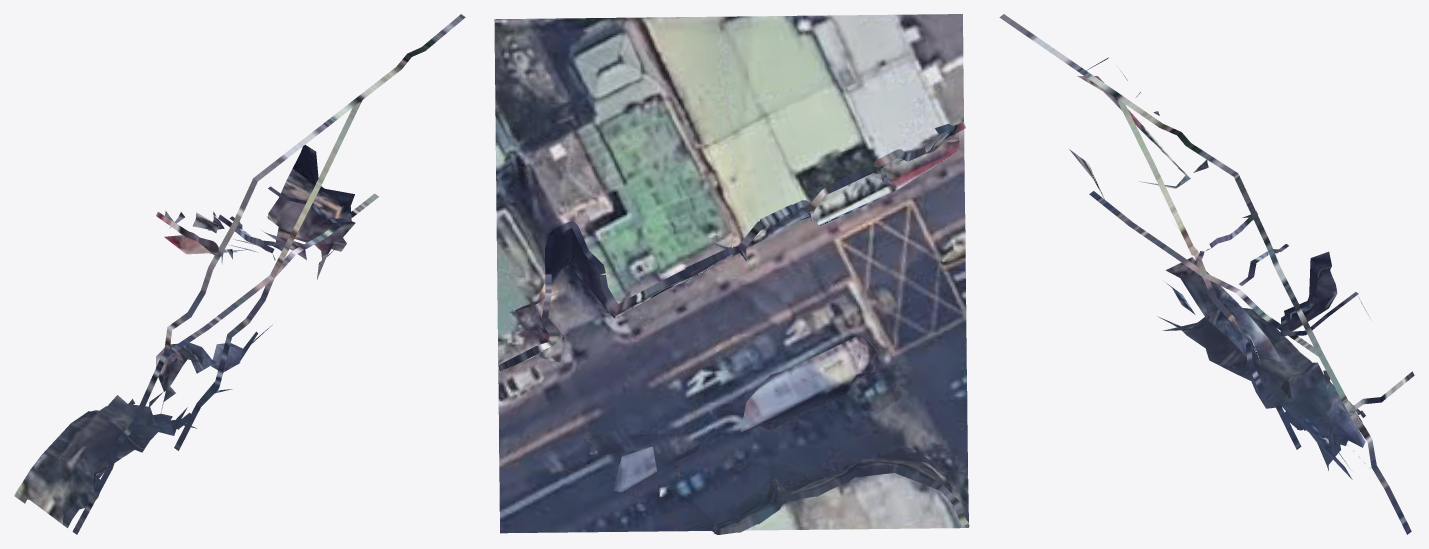
3 renders of one model, left to right at view 1: azimuth 30°, elevation 25°; view 2: azimuth 150°, elevation 25°; view 3: azimuth 270°, elevation 25°, orthographic. The views are drawn at different scales.
Size of the model in its own units: 40.93 by 34.86 by 32.31.
1 material, 1 textured.
